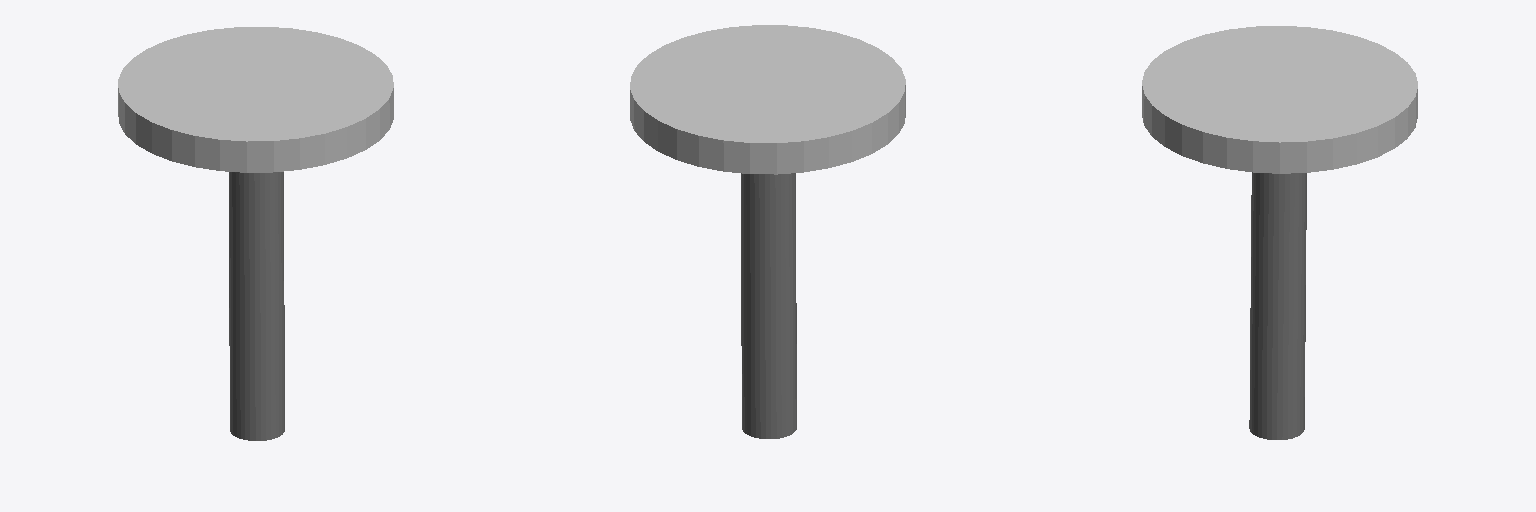
File: key.obj
3 renders of one model, left to right at view 1: azimuth 30°, elevation 25°; view 2: azimuth 150°, elevation 25°; view 3: azimuth 270°, elevation 25°, orthographic.
Parts seen in each view (by area): view 1: Cylinder, Cylinder.001; view 2: Cylinder, Cylinder.001; view 3: Cylinder, Cylinder.001.
Part boxes in pixels (x1,y1,x2,y2): Cylinder: (118,27,393,172); Cylinder.001: (229,172,284,440); Cylinder: (630,25,905,174); Cylinder.001: (741,173,796,438); Cylinder: (1142,26,1417,173); Cylinder.001: (1249,172,1306,439).
Bounding box in the file's own units: 0.2 × 0.276 × 0.2002.